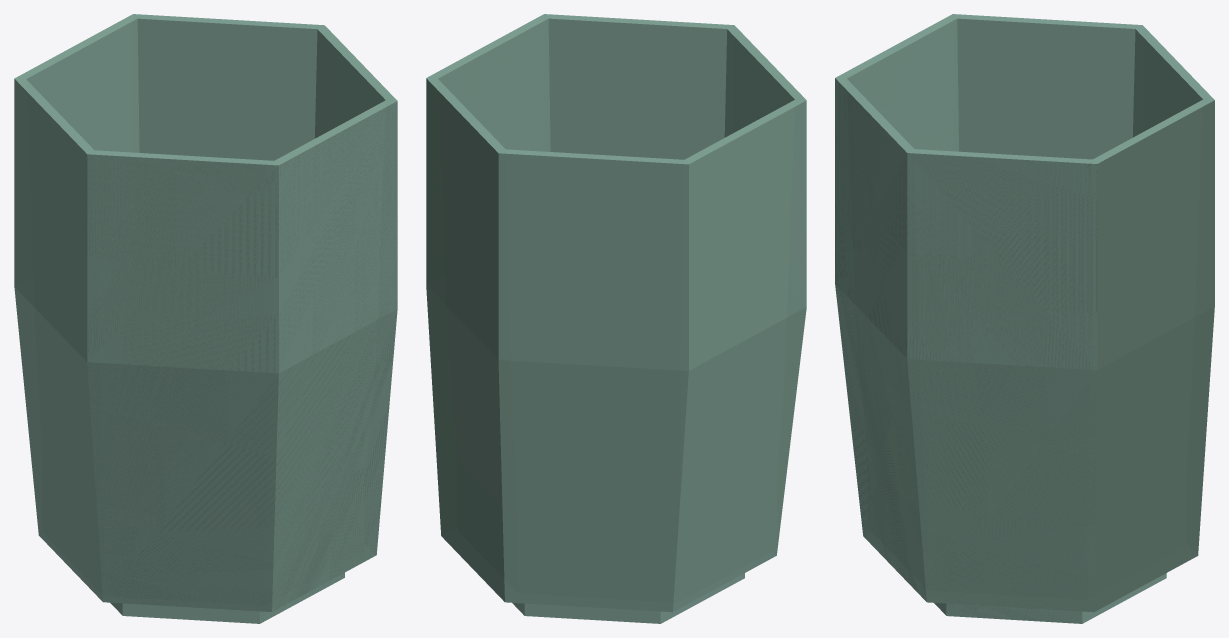
File: GinCup.dae
3 renders of one model, left to right at view 1: azimuth 30°, elevation 25°; view 2: azimuth 150°, elevation 25°; view 3: azimuth 270°, elevation 25°, orthographic.
Visible parts, largest first — view 1: SketchUp (×5); view 2: SketchUp (×4); view 3: SketchUp (×6).
Part boxes in pixels (x1=…): SketchUp (×5): x1=14, y1=14, x2=397, y2=623; SketchUp (×4): x1=426, y1=14, x2=806, y2=623; SketchUp (×6): x1=835, y1=14, x2=1214, y2=623.
Bounding box in the file's own units: 6.64 × 7.1 × 9.88.
